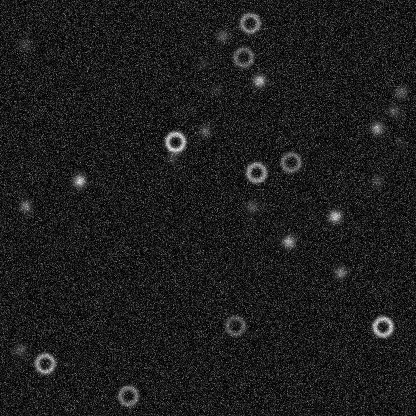Ring: (244, 160, 268, 184), (278, 150, 302, 174), (163, 129, 187, 153), (237, 10, 261, 34), (223, 313, 247, 337), (370, 314, 394, 338), (32, 351, 56, 375), (116, 383, 140, 407), (231, 45, 255, 69)
Spot: (17, 197, 33, 213), (251, 72, 267, 88), (243, 198, 259, 214), (392, 134, 408, 150), (385, 102, 401, 118), (11, 341, 27, 357), (164, 149, 180, 165), (195, 55, 211, 71), (368, 172, 384, 188), (208, 82, 224, 98), (196, 122, 212, 138), (326, 208, 342, 224), (16, 36, 32, 52), (214, 27, 230, 43), (368, 120, 384, 136), (392, 83, 408, 99), (332, 264, 348, 280), (280, 233, 296, 249), (71, 172, 87, 188)
